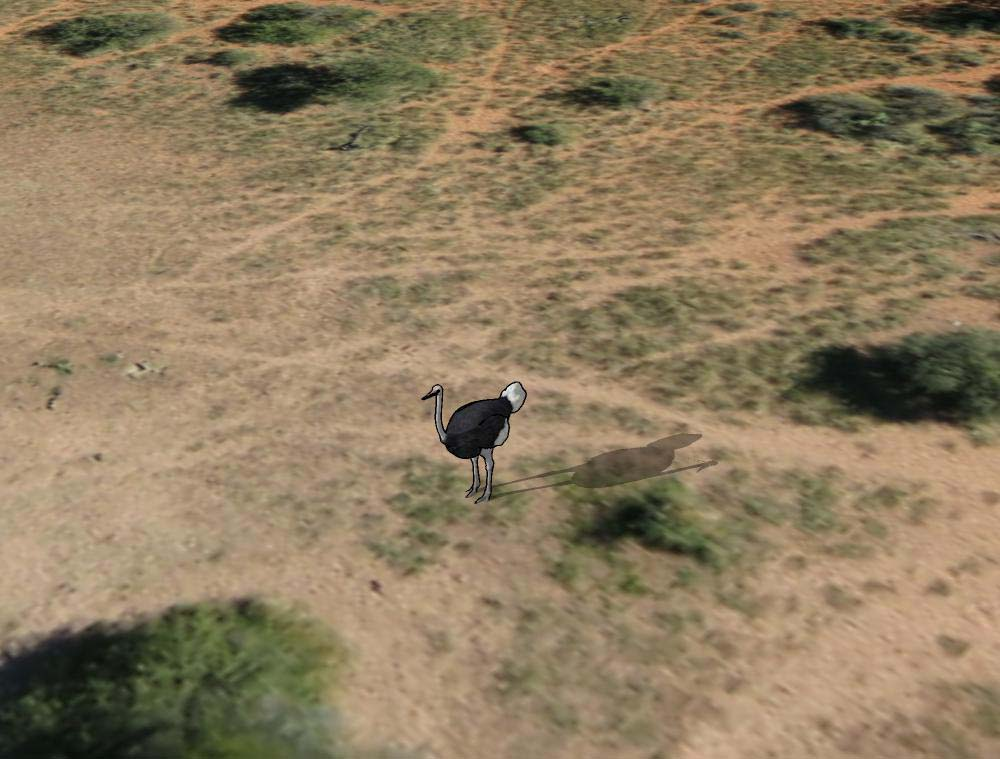springbok: (418, 381, 530, 502)
